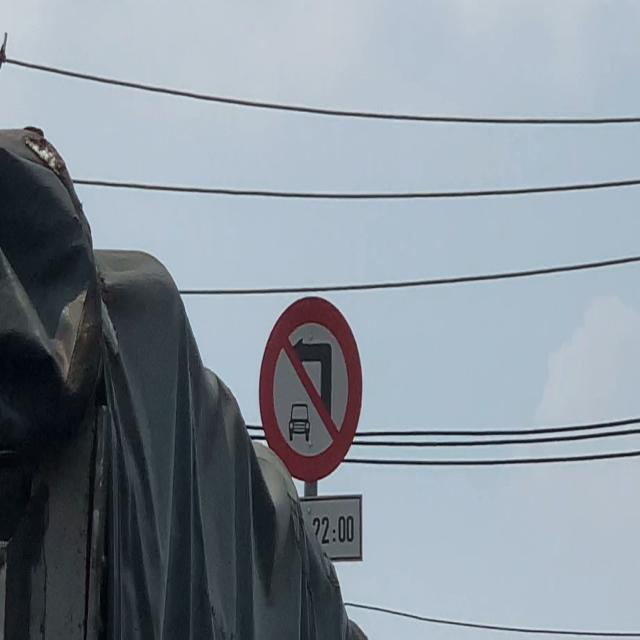Cam re trai: (258, 294, 364, 483)
